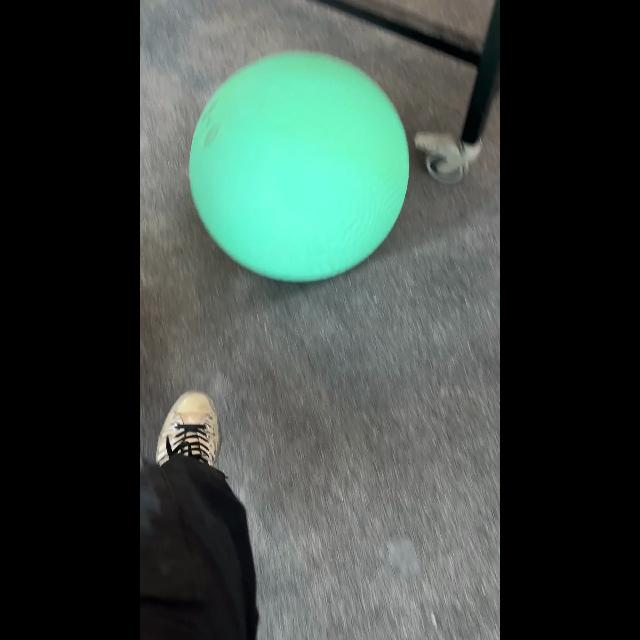ALGAE: (188, 50, 410, 282)
